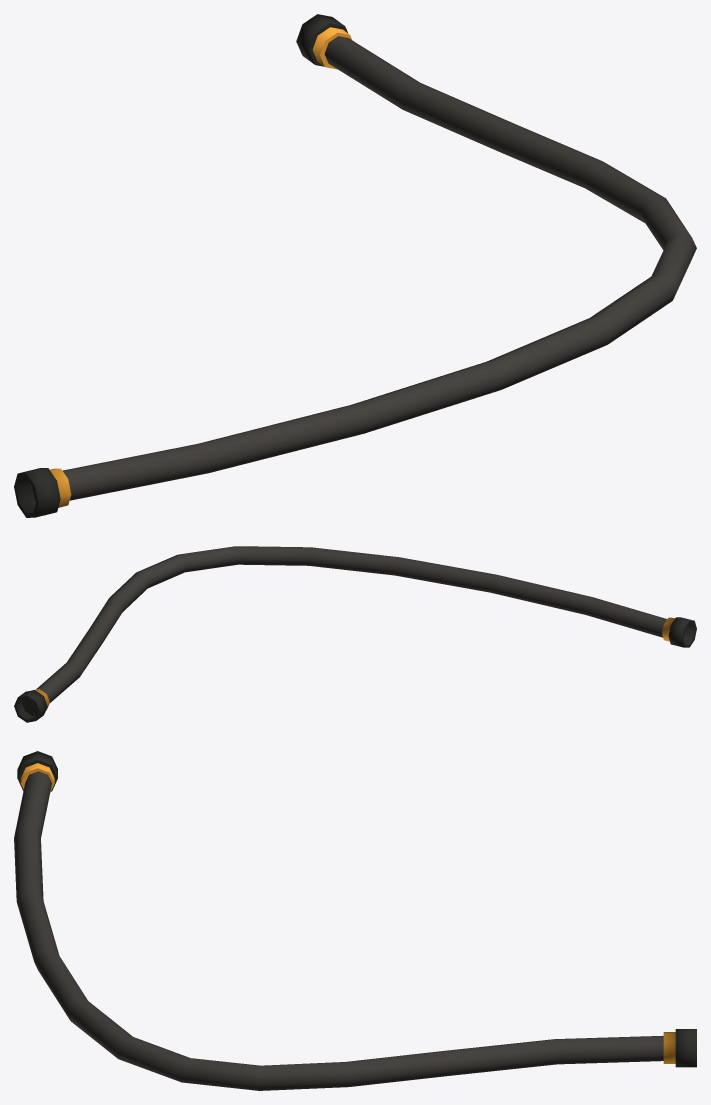
The model's file is Cable_2M_Curve_01.glb.
3 renders of one model, top to bottom at view 1: azimuth 30°, elevation 25°; view 2: azimuth 150°, elevation 25°; view 3: azimuth 270°, elevation 25°, orthographic. The views are drawn at different scales.
Parts seen in each view (by area): view 1: Cable_2M_Curve_01; view 2: Cable_2M_Curve_01; view 3: Cable_2M_Curve_01.
Boxes of the visible parts, x1=… form: Cable_2M_Curve_01: x1=14, y1=14, x2=696, y2=517; Cable_2M_Curve_01: x1=14, y1=546, x2=696, y2=722; Cable_2M_Curve_01: x1=14, y1=751, x2=696, y2=1090.
Size of what is drawn, in the model's own units: 2.26 by 0.1235 by 2.07.
Materials: 1 (1 with a texture image).
